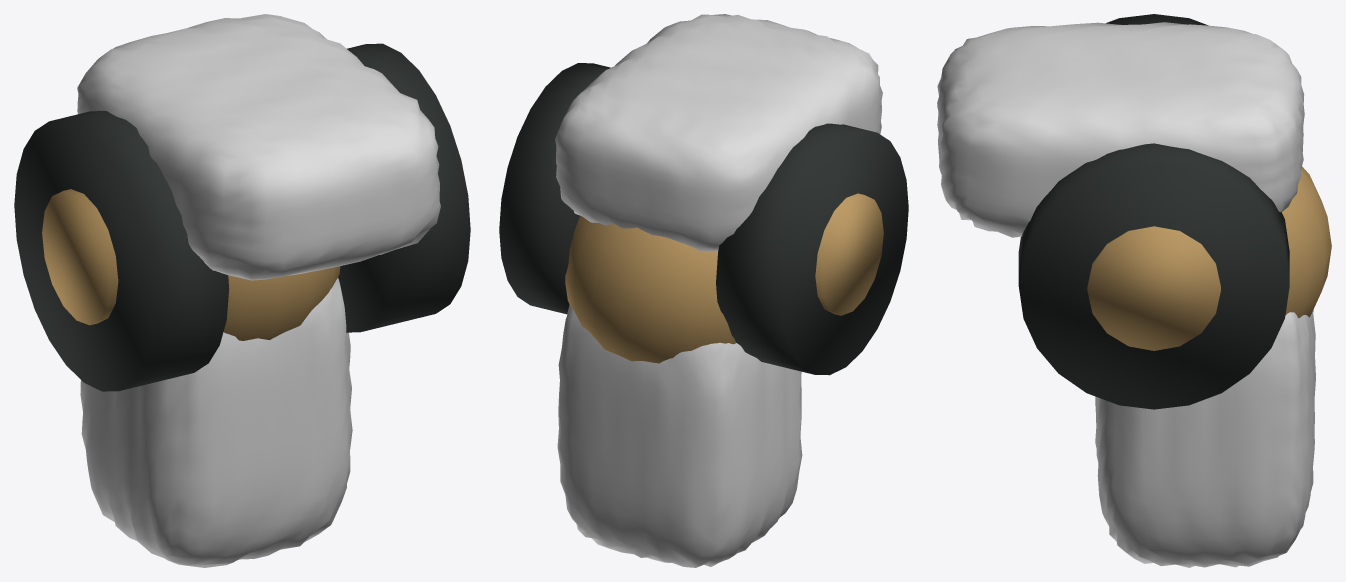
File: hotshot-leg-1.glb
3 views of the same model, side by side, from view 1: azimuth 30°, elevation 25°; view 2: azimuth 150°, elevation 25°; view 3: azimuth 270°, elevation 25° (orthographic). The views are drawn at different scales.
Parts seen in each view (by area): view 1: foot_clay, upper_clay, foot_rubber, foot_brass, upper_brass; view 2: foot_clay, upper_clay, foot_rubber, upper_brass, foot_brass; view 3: foot_clay, foot_rubber, upper_clay, foot_brass, upper_brass.
Part boxes in pixels (<box>): foot_clay: <box>77,14,440,280</box>; upper_clay: <box>80,278,352,567</box>; foot_rubber: <box>14,43,470,391</box>; foot_brass: <box>42,189,118,325</box>; upper_brass: <box>223,266,340,340</box>; foot_clay: <box>555,14,882,250</box>; upper_clay: <box>557,305,802,567</box>; foot_rubber: <box>499,63,908,375</box>; upper_brass: <box>565,215,736,363</box>; foot_brass: <box>815,193,883,315</box>; foot_clay: <box>937,22,1304,237</box>; foot_rubber: <box>1018,14,1289,409</box>; upper_clay: <box>1095,310,1315,567</box>; foot_brass: <box>1087,226,1220,350</box>; upper_brass: <box>1282,166,1331,318</box>.
Bounding box in the file's own units: 0.44 × 0.6303 × 0.4666.
